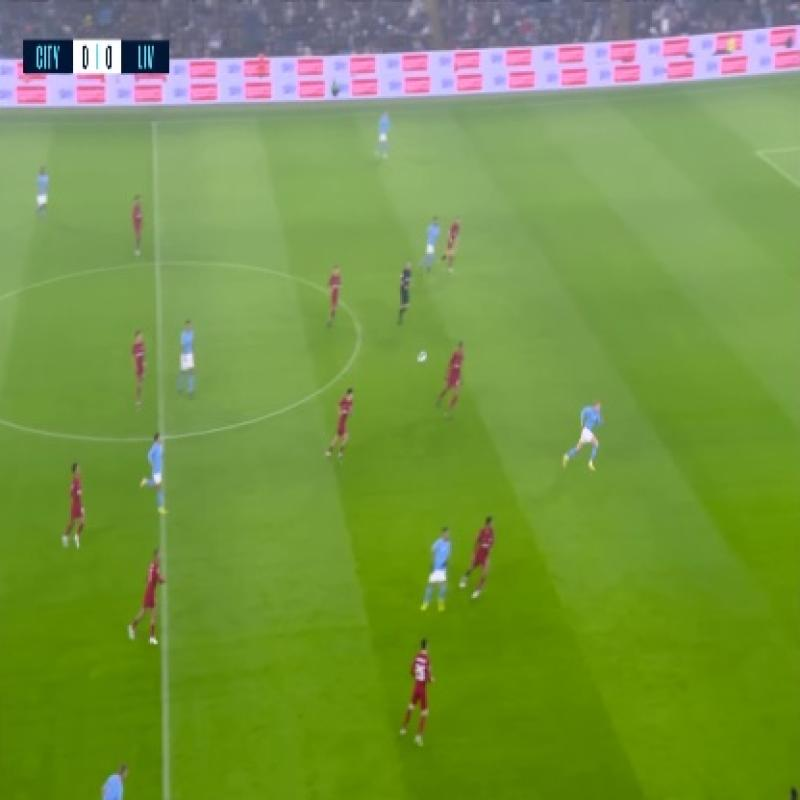13: (142, 106, 166, 138)
14: (140, 242, 172, 283)
15: (143, 423, 178, 457)
9: (746, 138, 767, 166)
c: (342, 312, 376, 354)
